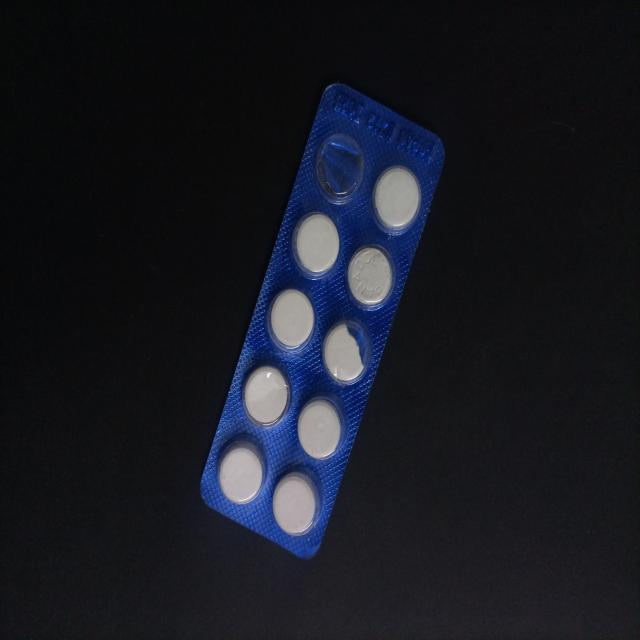defect: (313, 128, 367, 207), (321, 316, 374, 388)
